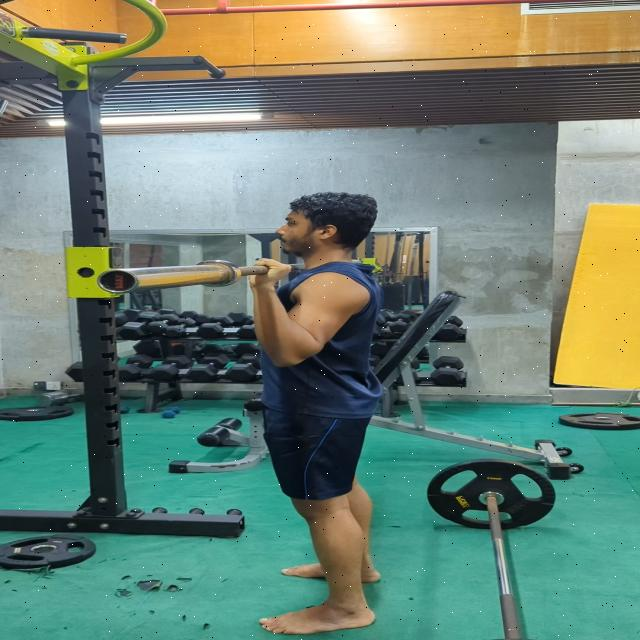Normal_OverheadPress: (205, 176, 418, 640)
